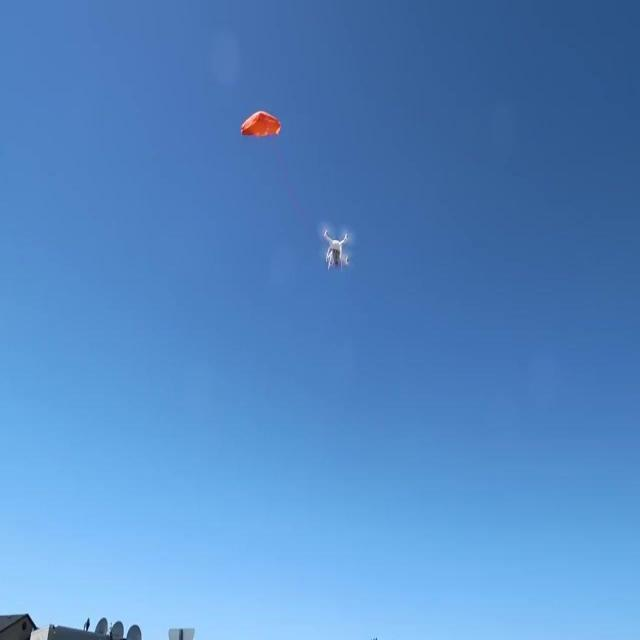UAV: (323, 228, 349, 274)
